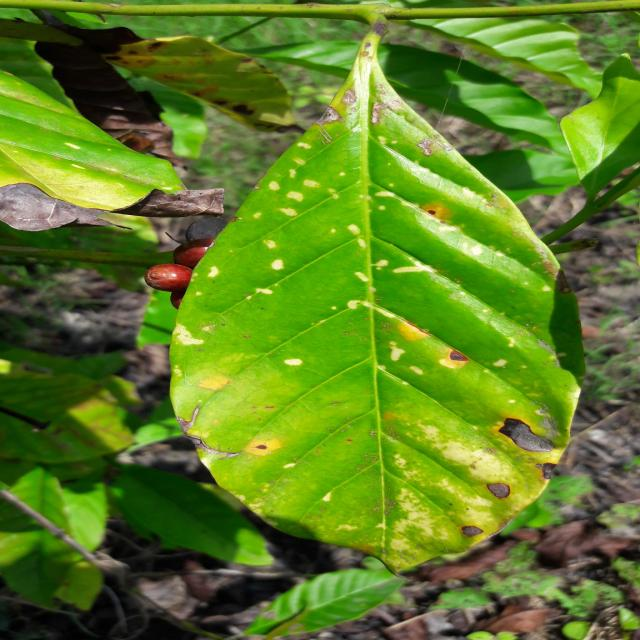Enfermedad-Roya: (169, 31, 584, 574)
